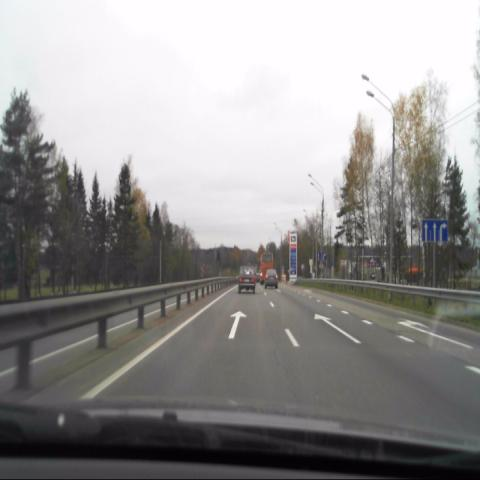5_15_1: (423, 220, 448, 243)
